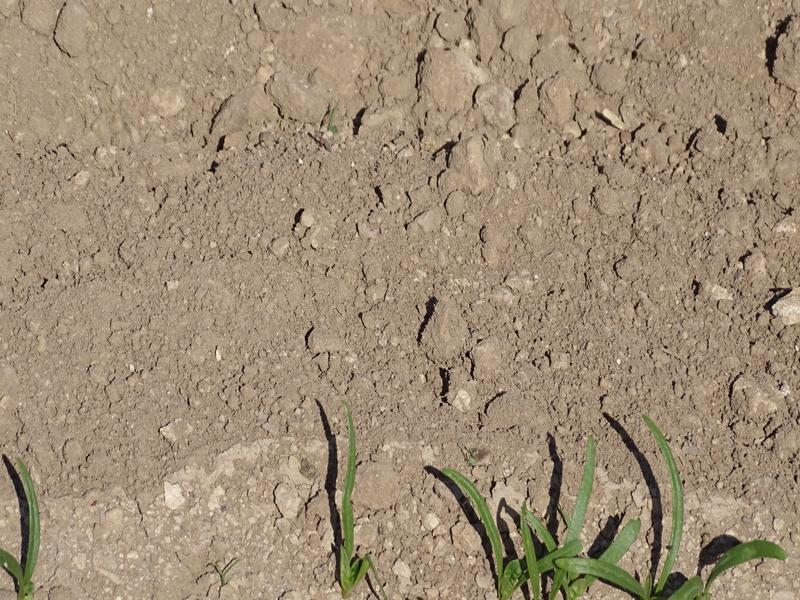Espinaca: (427, 420, 784, 596), (321, 407, 385, 588), (1, 452, 44, 596)
